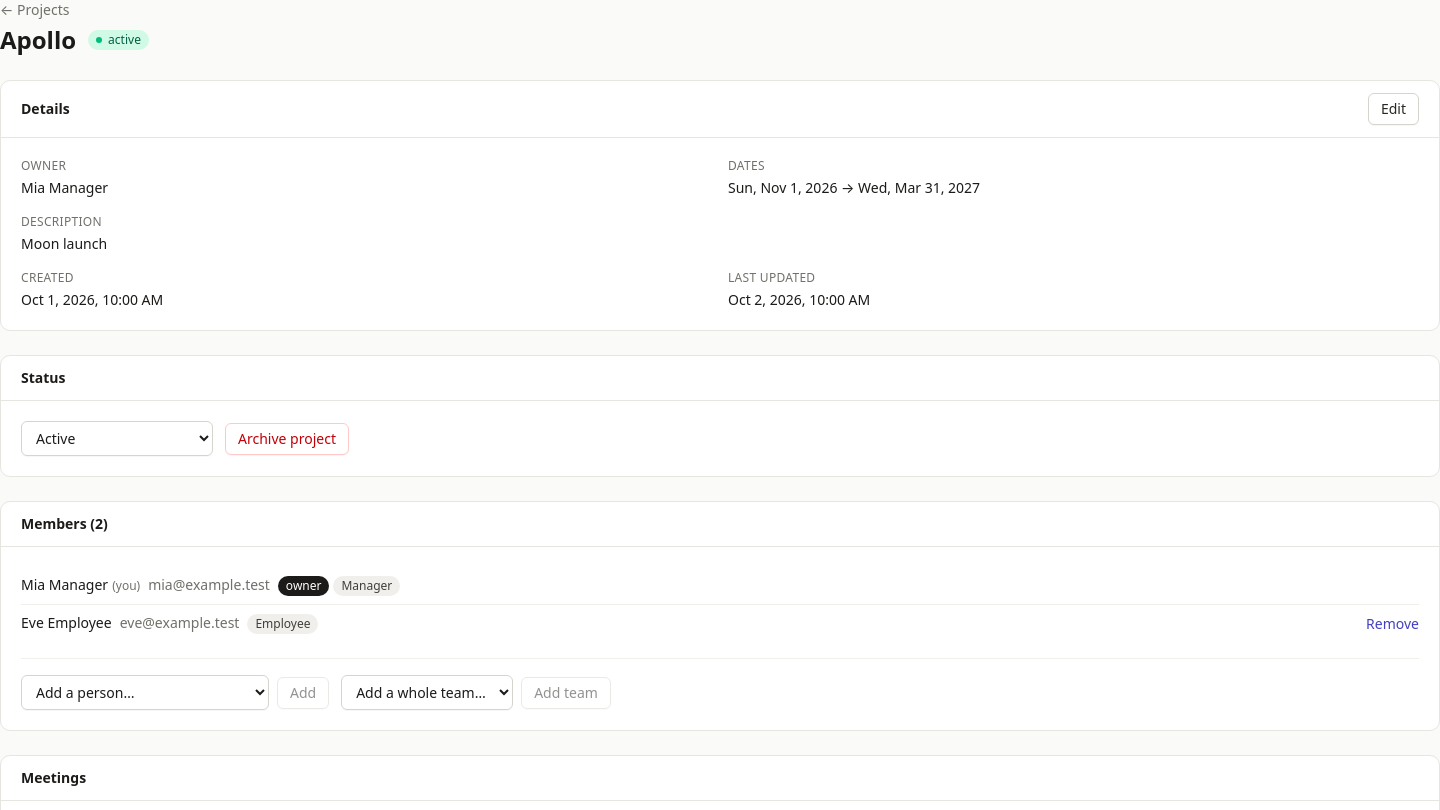
Scenario: Project detail › the owner adds a member and removes one
This screenshot has width=1440, height=810.
Select "Eli New (eli@example.test)" in the dropdown named "Person to add". click: [145, 692]
box: top-left (21, 675), bottom-right (269, 710)
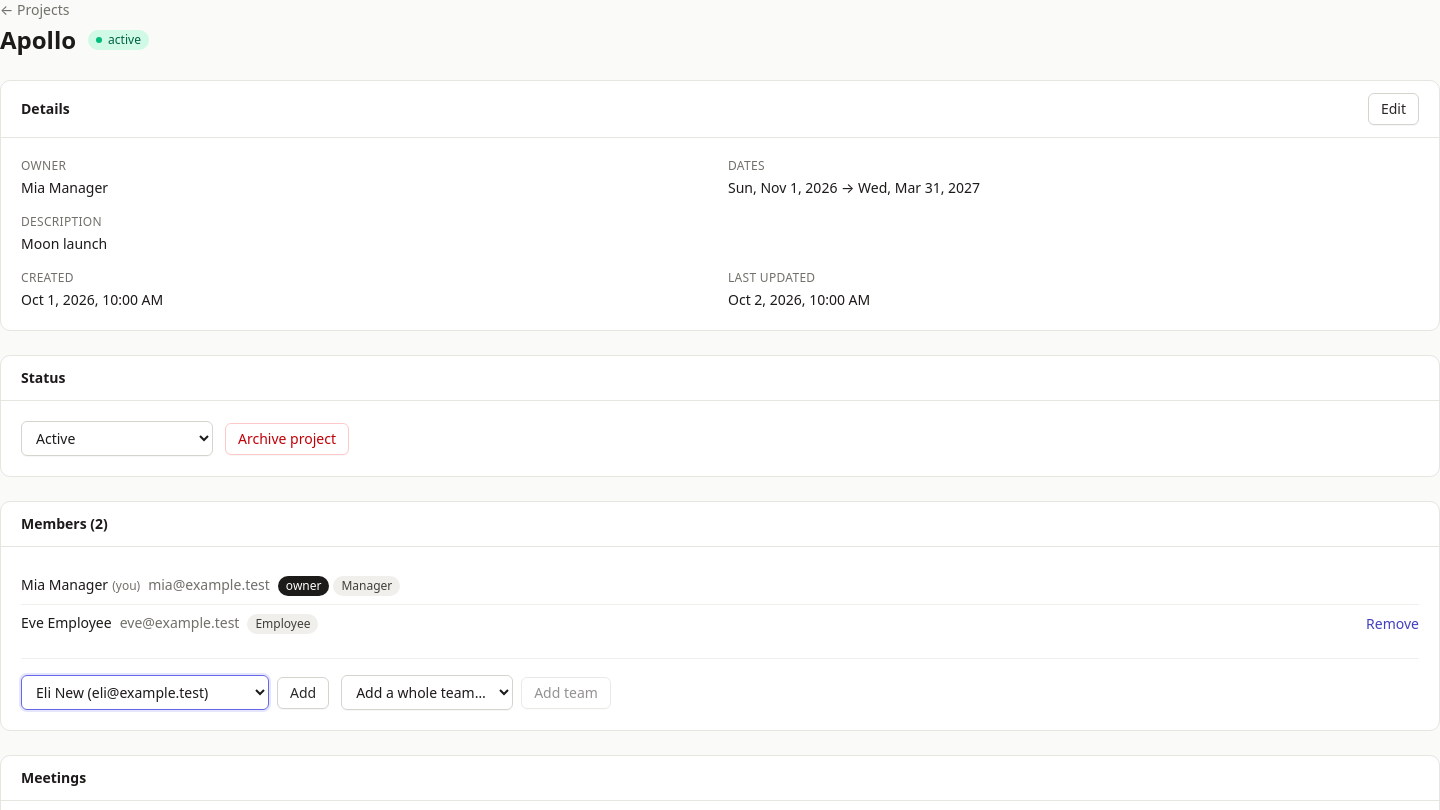
Click the button "Add". click: [303, 692]
box: top-left (277, 676), bottom-right (329, 708)
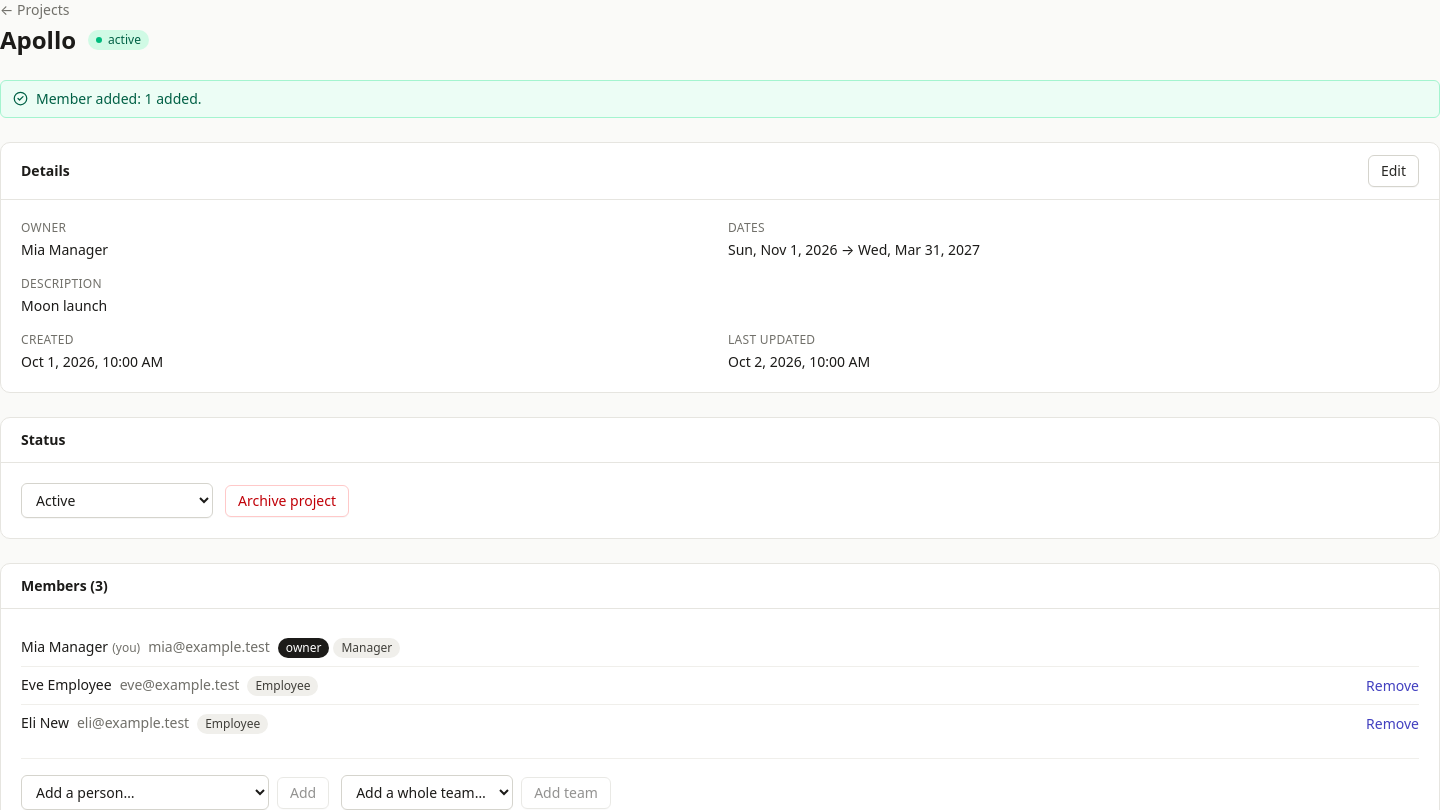
Now the heading "Members (3)" is shown, box top-left (21, 576), bottom-right (108, 596)
Click the button with aria-label "Remove Eve Employee". click: [1393, 686]
box: top-left (1366, 676), bottom-right (1419, 696)
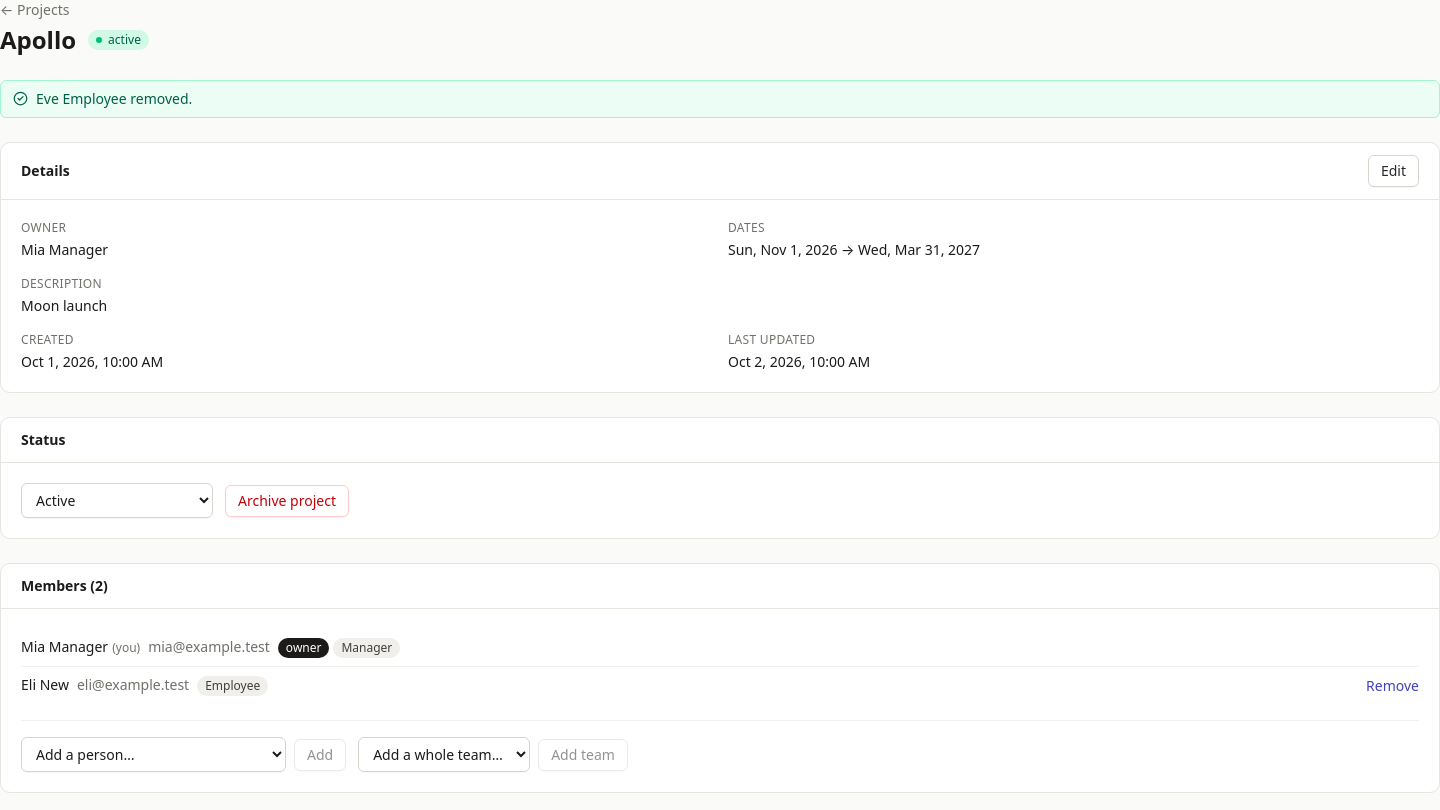
Now the heading "Members (2)" is shown, box top-left (21, 576), bottom-right (108, 596)
